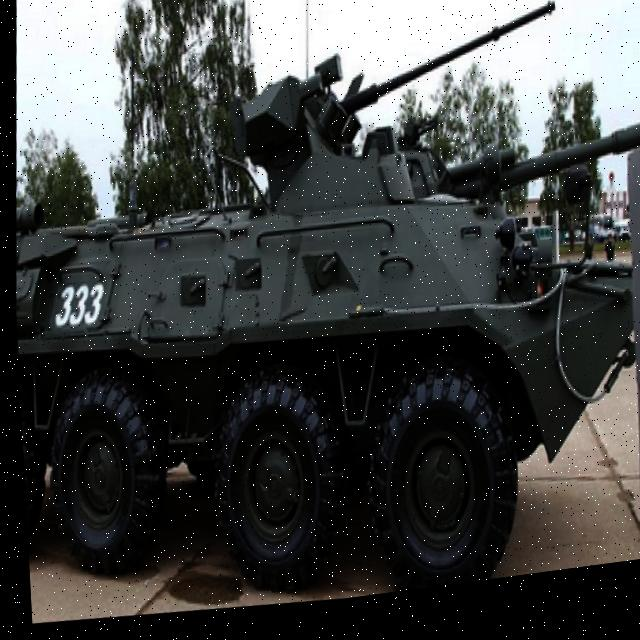MIL_APC: (5, 53, 640, 635)
